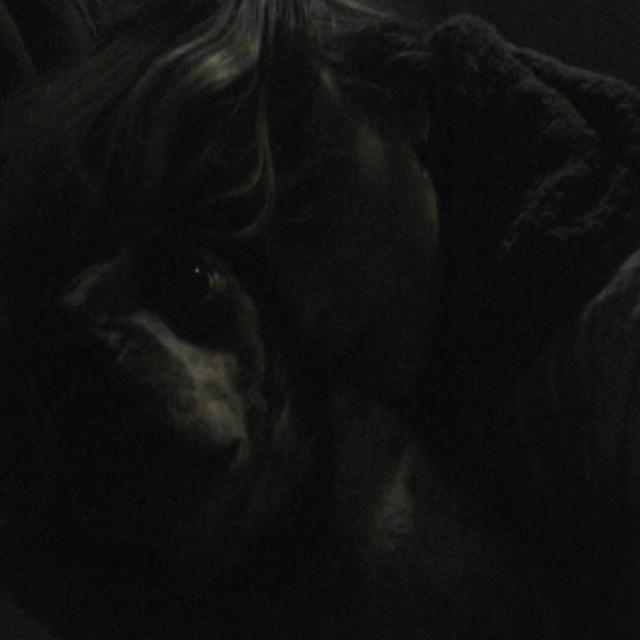Dog: (38, 5, 620, 617)
